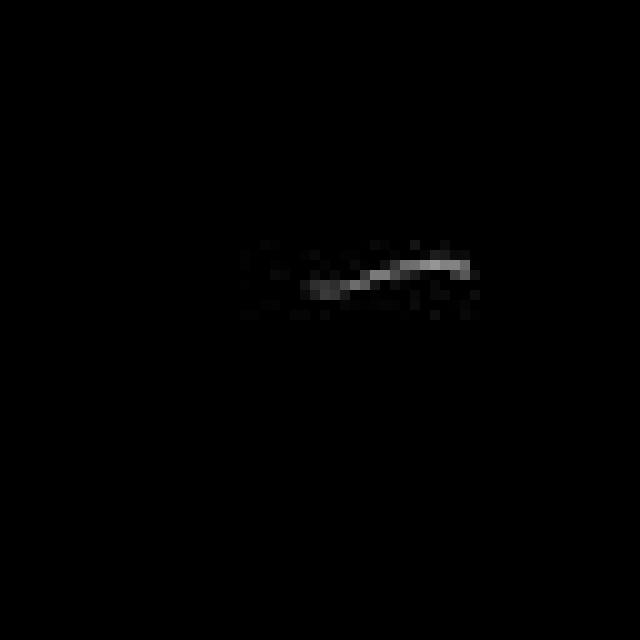1 -one-: (308, 245, 477, 318)
